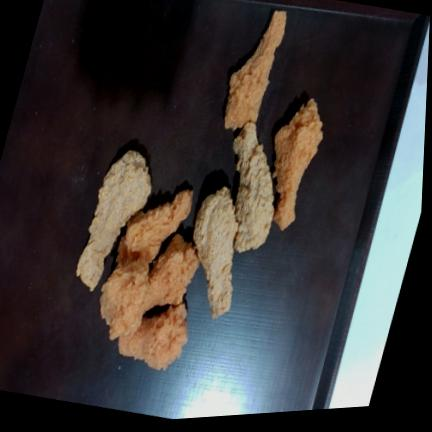chicken: (77, 150, 151, 291), (225, 11, 287, 129), (273, 98, 323, 230), (193, 187, 238, 318), (233, 122, 274, 252), (123, 190, 192, 265), (119, 303, 188, 369), (144, 234, 199, 312), (100, 259, 149, 340)
